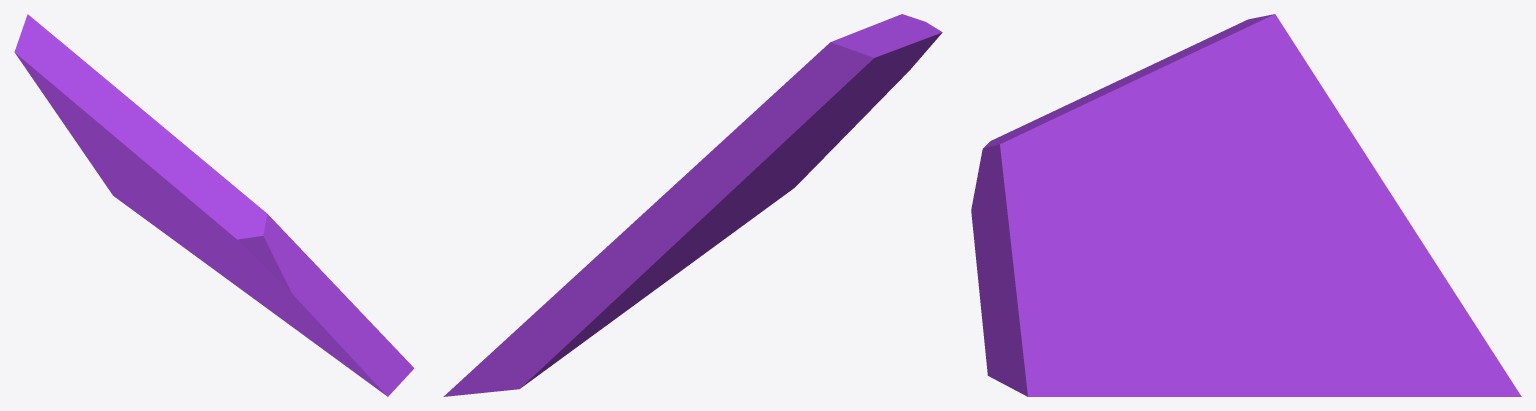
The model's file is Window_122_1_chunks.fbx.
The picture shows the model from 3 angles, left to right: view 1: azimuth 30°, elevation 25°; view 2: azimuth 150°, elevation 25°; view 3: azimuth 270°, elevation 25°; orthographic projection. The views are drawn at different scales.
Parts seen in each view (by area): view 1: Window_122_1_11, Window_122_1_8, Window_122_1_6, Window_122_1_1, Window_122_1_12, Window_122_1_0, Window_122_1_5, Window_122_1_13, Window_122_1_7, Window_122_1_17, Window_122_1_9, Window_122_1_4 (+4 smaller); view 2: Window_122_1_3, Window_122_1_12, Window_122_1_17, Window_122_1_11, Window_122_1_1, Window_122_1_8, Window_122_1_6, Window_122_1_0, Window_122_1_5, Window_122_1_13, Window_122_1_9, Window_122_1_4 (+3 smaller); view 3: Window_122_1_3, Window_122_1_6, Window_122_1_2, Window_122_1_5, Window_122_1_8, Window_122_1_17, Window_122_1_12, Window_122_1_7, Window_122_1_11, Window_122_1_10, Window_122_1_14, Window_122_1_18 (+2 smaller).
Boxes of the visible parts, box(x1,y1,x2,y2) form: Window_122_1_11: box(14, 28, 197, 194); Window_122_1_8: box(176, 156, 308, 304); Window_122_1_6: box(286, 273, 414, 396); Window_122_1_1: box(21, 62, 164, 199); Window_122_1_12: box(64, 124, 147, 206); Window_122_1_0: box(154, 187, 241, 289); Window_122_1_5: box(225, 259, 313, 342); Window_122_1_13: box(121, 171, 233, 283); Window_122_1_7: box(217, 242, 323, 298); Window_122_1_17: box(97, 172, 175, 240); Window_122_1_9: box(145, 172, 240, 259); Window_122_1_4: box(223, 255, 287, 313); Window_122_1_3: box(632, 40, 847, 223); Window_122_1_12: box(527, 207, 722, 333); Window_122_1_17: box(443, 294, 630, 396); Window_122_1_11: box(829, 22, 923, 110); Window_122_1_1: box(721, 55, 852, 210); Window_122_1_8: box(836, 14, 942, 127); Window_122_1_6: box(723, 84, 895, 239); Window_122_1_0: box(643, 137, 810, 298); Window_122_1_5: box(650, 197, 755, 293); Window_122_1_13: box(644, 209, 725, 296); Window_122_1_9: box(810, 74, 884, 145); Window_122_1_4: box(750, 126, 845, 211); Window_122_1_3: box(1231, 14, 1400, 227); Window_122_1_6: box(973, 225, 1118, 396); Window_122_1_2: box(1141, 148, 1281, 383); Window_122_1_5: box(1118, 269, 1260, 396); Window_122_1_8: box(971, 106, 1107, 228); Window_122_1_17: box(1353, 302, 1521, 396); Window_122_1_12: box(1288, 210, 1468, 314); Window_122_1_7: box(982, 215, 1176, 302); Window_122_1_11: box(1062, 16, 1264, 131); Window_122_1_10: box(1094, 98, 1209, 214); Window_122_1_14: box(1252, 226, 1330, 390); Window_122_1_18: box(1265, 299, 1356, 381).
Bounding box in the file's own units: 566 × 613 × 1107.
